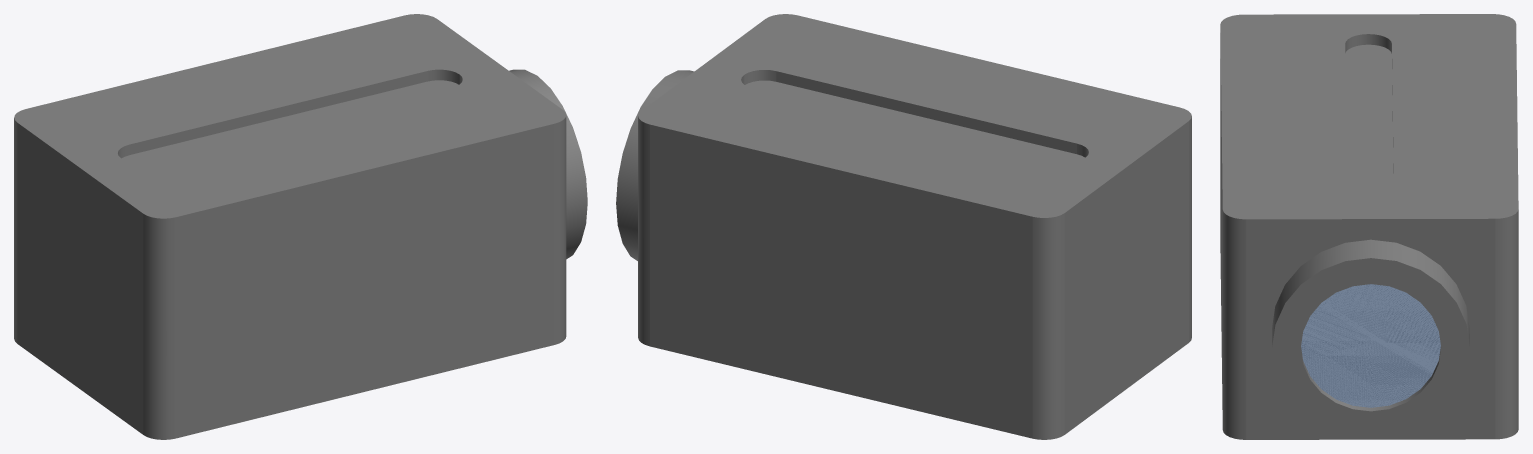
File: cam2.dae
The picture shows the model from 3 angles, left to right: view 1: azimuth 30°, elevation 25°; view 2: azimuth 150°, elevation 25°; view 3: azimuth 270°, elevation 25°; orthographic projection.
Visible parts, largest first — view 1: SketchUp, SketchUp.003; view 2: SketchUp, SketchUp.003; view 3: SketchUp, SketchUp.001, SketchUp.004, SketchUp.002, SketchUp.003, SketchUp.005.
Part boxes in pixels (x1,y1,x2,y2): SketchUp: [14, 14, 566, 439]; SketchUp.003: [509, 69, 587, 259]; SketchUp: [638, 14, 1191, 439]; SketchUp.003: [616, 70, 694, 260]; SketchUp: [1220, 14, 1518, 439]; SketchUp.001: [1246, 218, 1495, 439]; SketchUp.004: [1272, 258, 1469, 437]; SketchUp.002: [1301, 284, 1440, 407]; SketchUp.003: [1272, 239, 1469, 346]; SketchUp.005: [1301, 347, 1441, 411].
Bounding box in the file's own units: 0.0718 × 0.0405 × 0.033.
